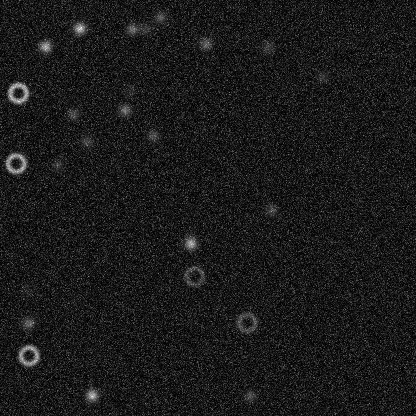Ring: (3, 151, 27, 175), (6, 80, 30, 104), (182, 264, 206, 288), (16, 343, 40, 367), (234, 310, 258, 334)
Spot: (18, 282, 34, 298), (121, 83, 137, 99), (263, 202, 279, 218), (49, 157, 65, 173), (144, 127, 160, 143), (137, 20, 153, 36), (124, 21, 140, 37), (314, 68, 330, 84), (65, 106, 81, 122), (83, 387, 99, 403), (71, 20, 87, 36), (20, 315, 36, 331), (242, 387, 258, 403), (37, 38, 53, 54), (259, 39, 275, 55), (182, 235, 198, 251), (197, 35, 213, 51), (78, 133, 94, 149), (116, 102, 132, 118), (152, 9, 168, 25)
